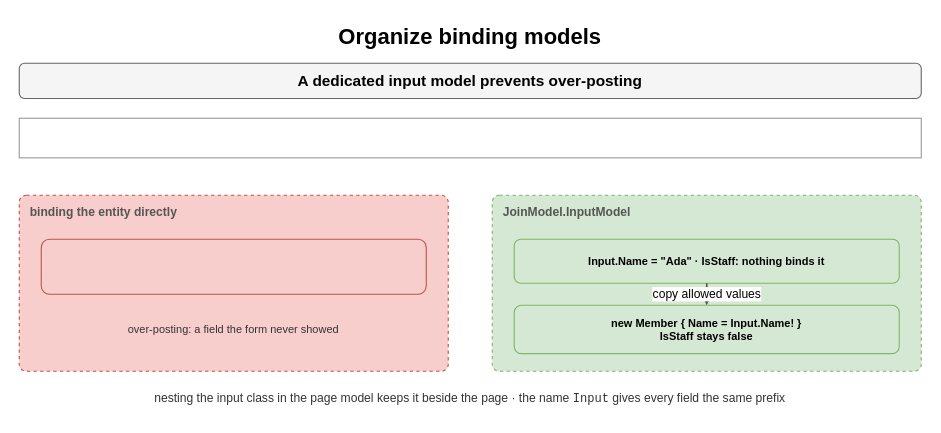
Image size: 941x433. Some labels were removed from this diagram. Each missing label, with the centre of its shape:
Member · Name · IsStaff IsStaff set by the client: (x=233, y=266)
POST /Join Input.Name=Ada & IsStaff=true: (x=469, y=137)
